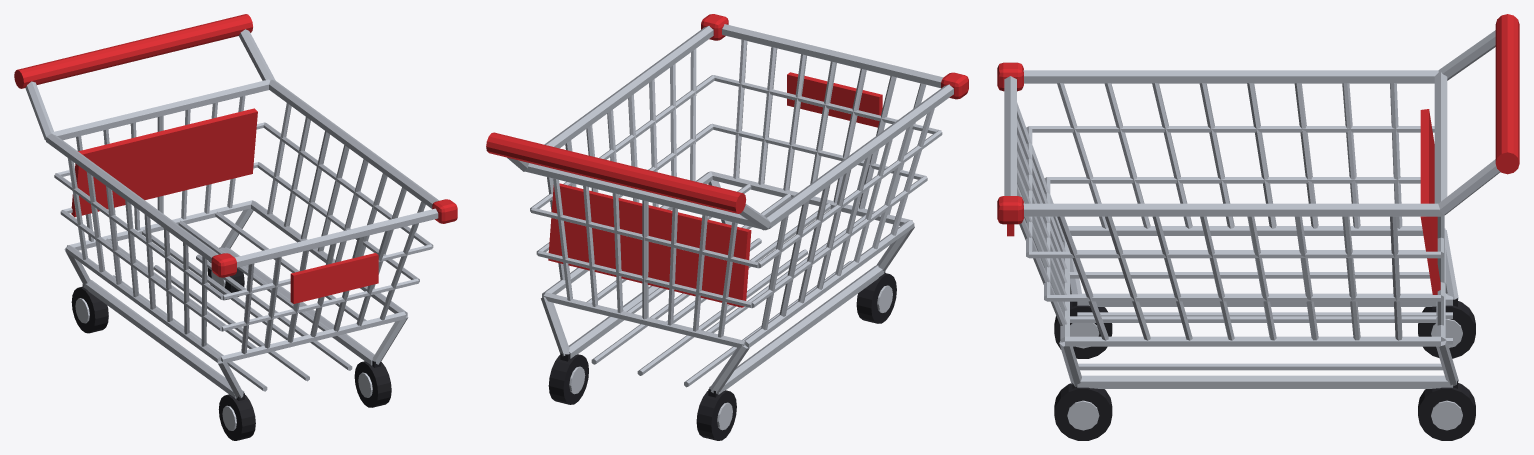
Rendered from ride_cart.fbx.
3 renders of one model, left to right at view 1: azimuth 30°, elevation 25°; view 2: azimuth 150°, elevation 25°; view 3: azimuth 270°, elevation 25°, orthographic. The views are drawn at different scales.
Visible parts, largest first — view 1: ride_cart; view 2: ride_cart; view 3: ride_cart.
Part boxes in pixels (x1,y1,x2,y2): ride_cart: (14,14,457,440); ride_cart: (486,14,968,440); ride_cart: (997,14,1519,440).
Size of the model in its own units: 282 by 285 by 431.
1 material, 1 textured.
